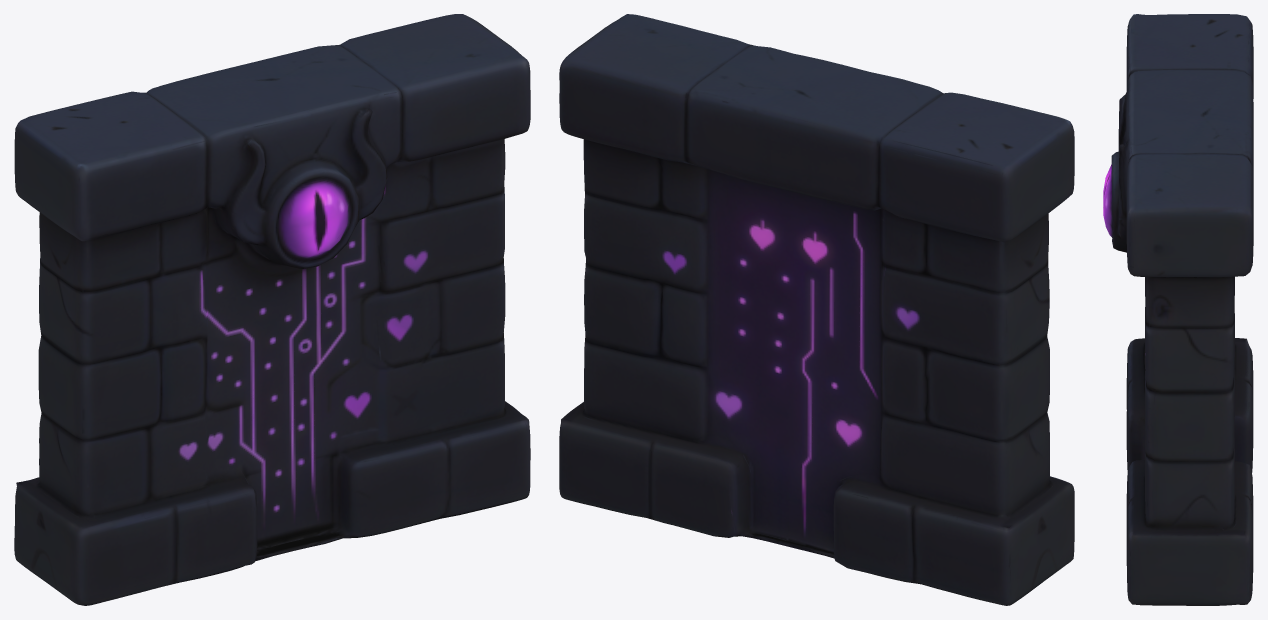
File: wallo.fbx
3 views of the same model, side by side, from view 1: azimuth 30°, elevation 25°; view 2: azimuth 150°, elevation 25°; view 3: azimuth 270°, elevation 25° (orthographic). The views are drawn at different scales.
Visible parts, largest first — view 1: RETOPO; view 2: RETOPO; view 3: RETOPO.
Boxes of the visible parts, x1,y1,x2,y2 form: RETOPO: [14, 14, 530, 605]; RETOPO: [559, 14, 1074, 605]; RETOPO: [1103, 14, 1253, 605].
Bounding box in the file's own units: 99.97 × 92.46 × 31.74.
